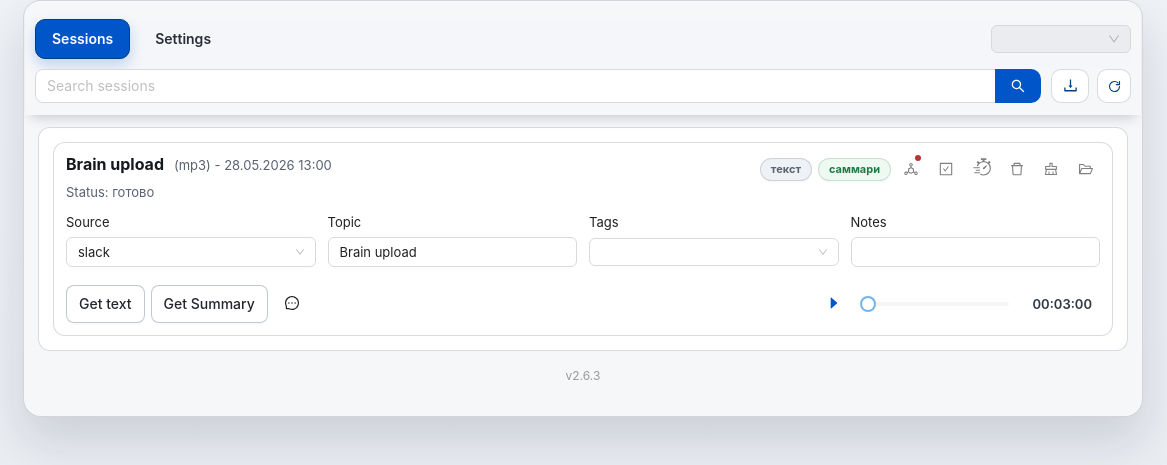
Test: App main window › uploads a session to Brain and refreshes the session list
Click the button named "Refresh sessions" at (1114, 86), box [1097,69,1131,103]
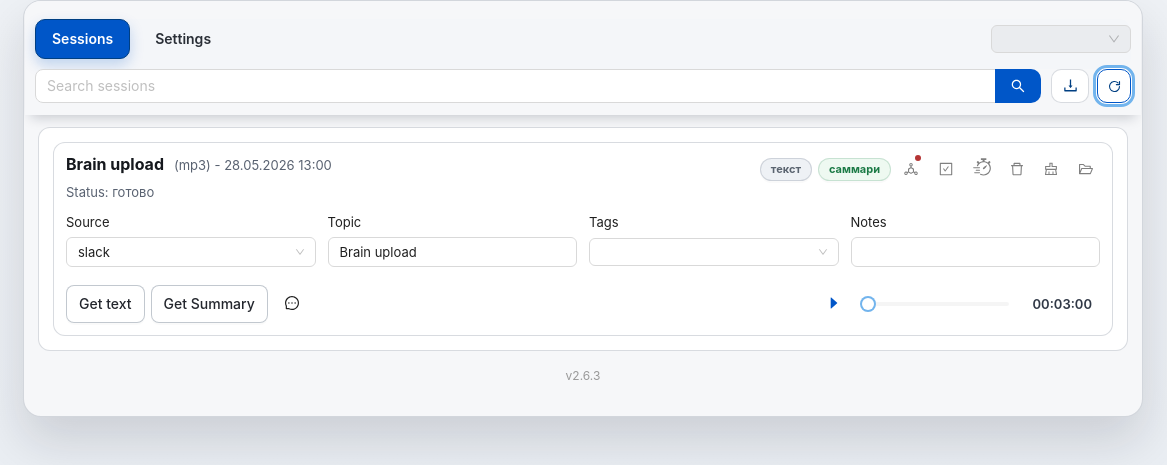
Click the button named "Загрузить в Brain" at (911, 169), box [897,155,926,184]
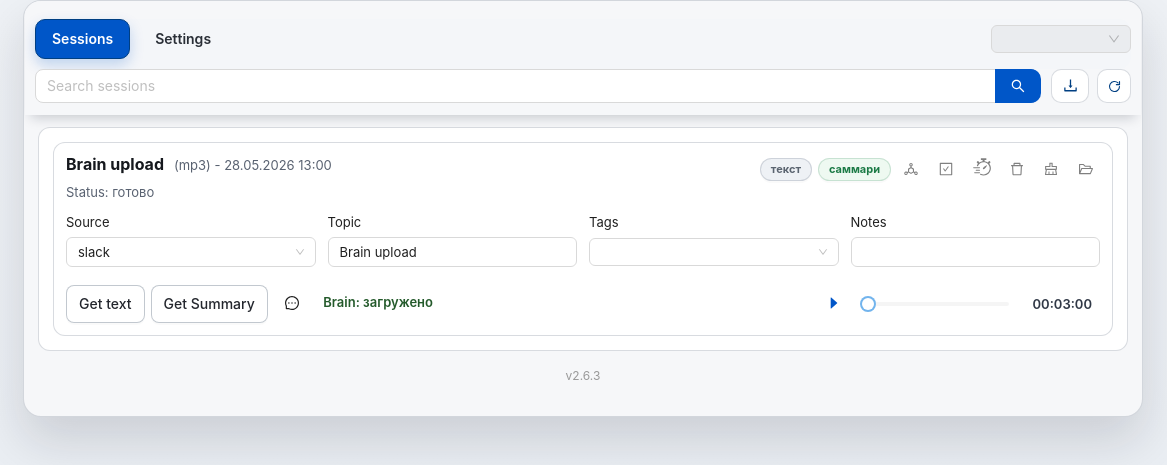
Expected: the text "Brain: загружено" is shown, [323,292,433,313]
